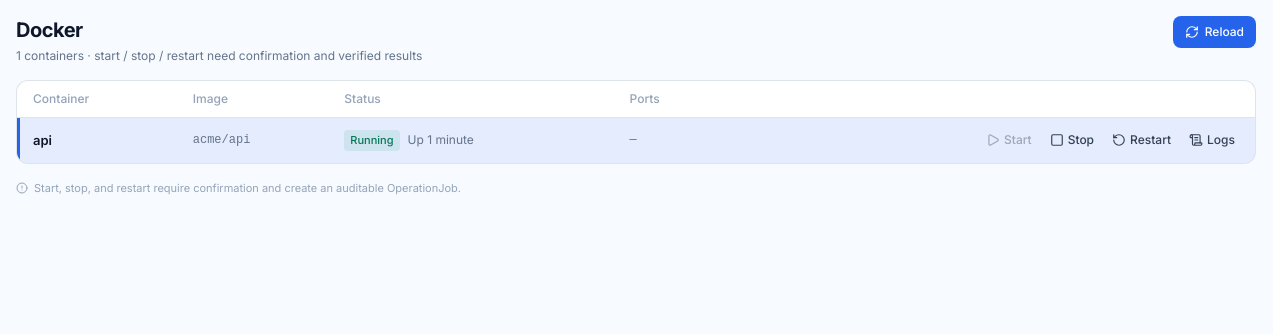
it: DockerOpsPanel › displays the in-job verification summary without performing a second external verification scan
The width and height of the screenshot is (1273, 334).
What coordinates should you click on to do the following:
click the button "Restart"
I would click on:
 (1142, 140)
Its box is [1104,126,1179,154].
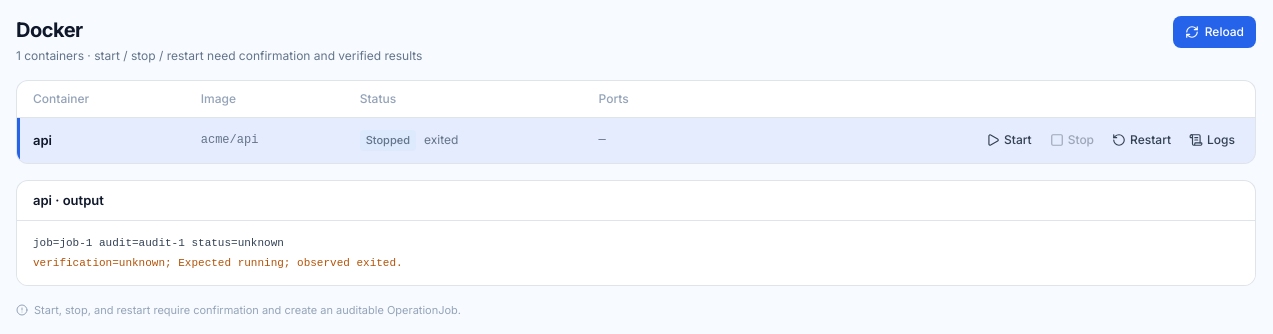
expect the element with test id "docker-ops-output" shows "status=unknown": met, box [33,237,284,249]
expect the element with test id "docker-ops-output" shows "verification=unknown; Expected running; observed exited.": met, box [33,257,403,269]
expect the text "exited" is shown: met, box [424,132,458,148]
